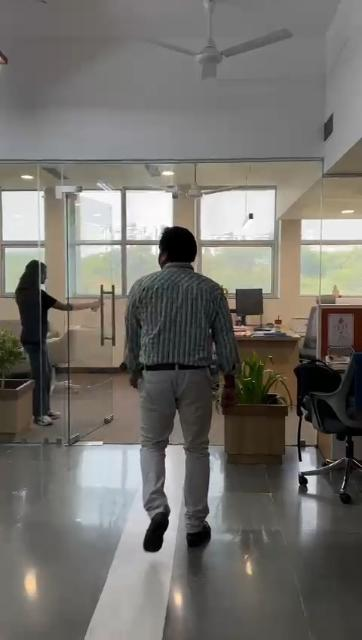floor: (0, 418, 362, 640)
moving-obj: (108, 228, 248, 550), (17, 252, 93, 438)
object: (302, 359, 362, 495), (234, 354, 292, 466), (0, 328, 32, 434), (53, 321, 78, 387), (232, 284, 274, 322)
wall: (278, 178, 304, 324), (48, 208, 72, 292)
